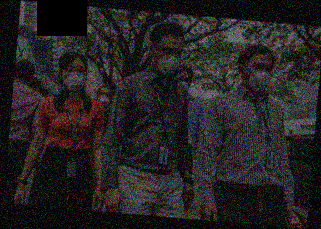with_mask: (244, 61, 275, 93), (154, 44, 184, 77), (63, 64, 88, 92), (175, 74, 192, 91), (96, 90, 112, 107)
